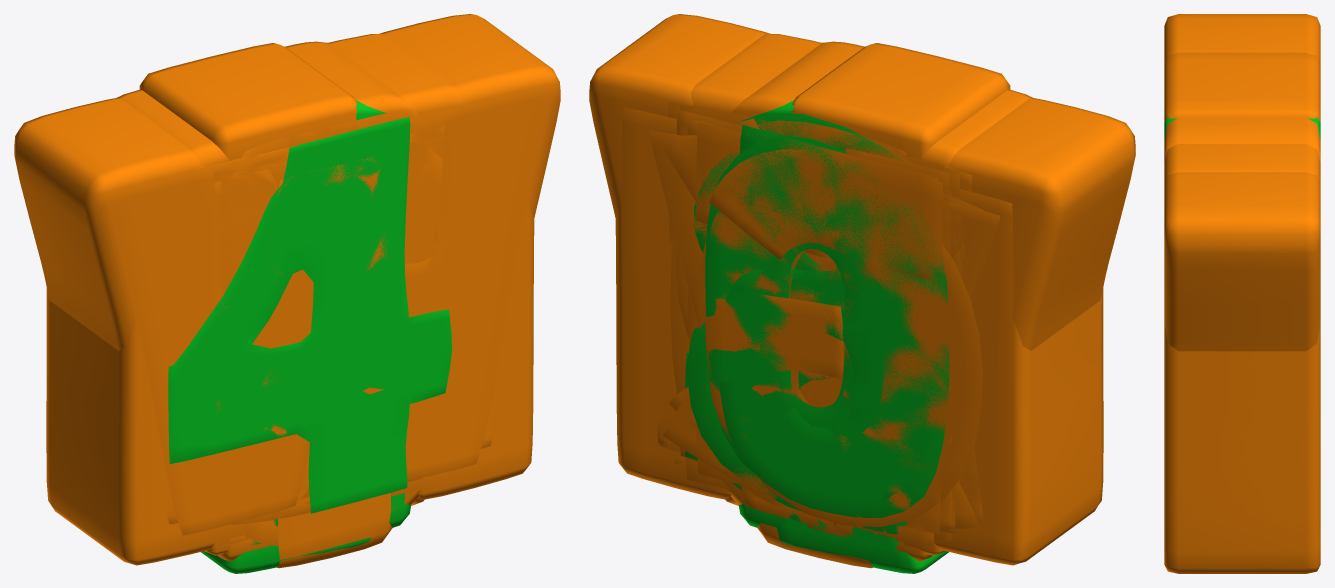
Rendered from characters.gltf.
3 views of the same model, side by side, from view 1: azimuth 30°, elevation 25°; view 2: azimuth 150°, elevation 25°; view 3: azimuth 270°, elevation 25° (orthographic). The views are drawn at different scales.
Parts seen in each view (by area): view 1: A:W, A:Mesh4, A:M, A:L, A:A, A:H, A:R, A:T, A:N, A:B, A:Mesh7, A:U; view 2: A:M, A:W, A:G, A:Mesh6, A:Mesh, A:L, A:Z, A:H, A:V, A:D, A:Mesh3, A:E (+11 smaller); view 3: A:M, A:W, A:L, A:H, A:A.
Part boxes in pixels (left/top/right/bottom): A:W: left=14, top=14, right=560, bottom=535; A:Mesh4: left=168, top=117, right=451, bottom=513; A:M: left=46, top=126, right=534, bottom=565; A:L: left=139, top=43, right=357, bottom=279; A:A: left=167, top=41, right=492, bottom=523; A:H: left=117, top=34, right=458, bottom=166; A:R: left=220, top=140, right=442, bottom=499; A:T: left=217, top=164, right=427, bottom=568; A:N: left=192, top=109, right=447, bottom=482; A:B: left=222, top=161, right=438, bottom=524; A:Mesh7: left=201, top=537, right=370, bottom=573; A:U: left=245, top=490, right=418, bottom=546; A:M: left=615, top=107, right=1103, bottom=565; A:W: left=589, top=14, right=1135, bottom=350; A:G: left=705, top=149, right=982, bottom=526; A:Mesh6: left=719, top=125, right=949, bottom=517; A:Mesh: left=705, top=136, right=935, bottom=499; A:L: left=792, top=43, right=1010, bottom=159; A:Z: left=677, top=109, right=951, bottom=540; A:H: left=680, top=34, right=1032, bottom=483; A:V: left=649, top=130, right=1000, bottom=535; A:D: left=698, top=157, right=942, bottom=534; A:Mesh3: left=687, top=152, right=906, bottom=534; A:E: left=696, top=122, right=920, bottom=524; A:M: left=1164, top=322, right=1320, bottom=573; A:W: left=1164, top=14, right=1320, bottom=351; A:L: left=1164, top=53, right=1320, bottom=121; A:H: left=1164, top=52, right=1320, bottom=182; A:A: left=1164, top=118, right=1320, bottom=161.
Size of the model in its own units: 0.4388 by 0.406 by 0.1353.
